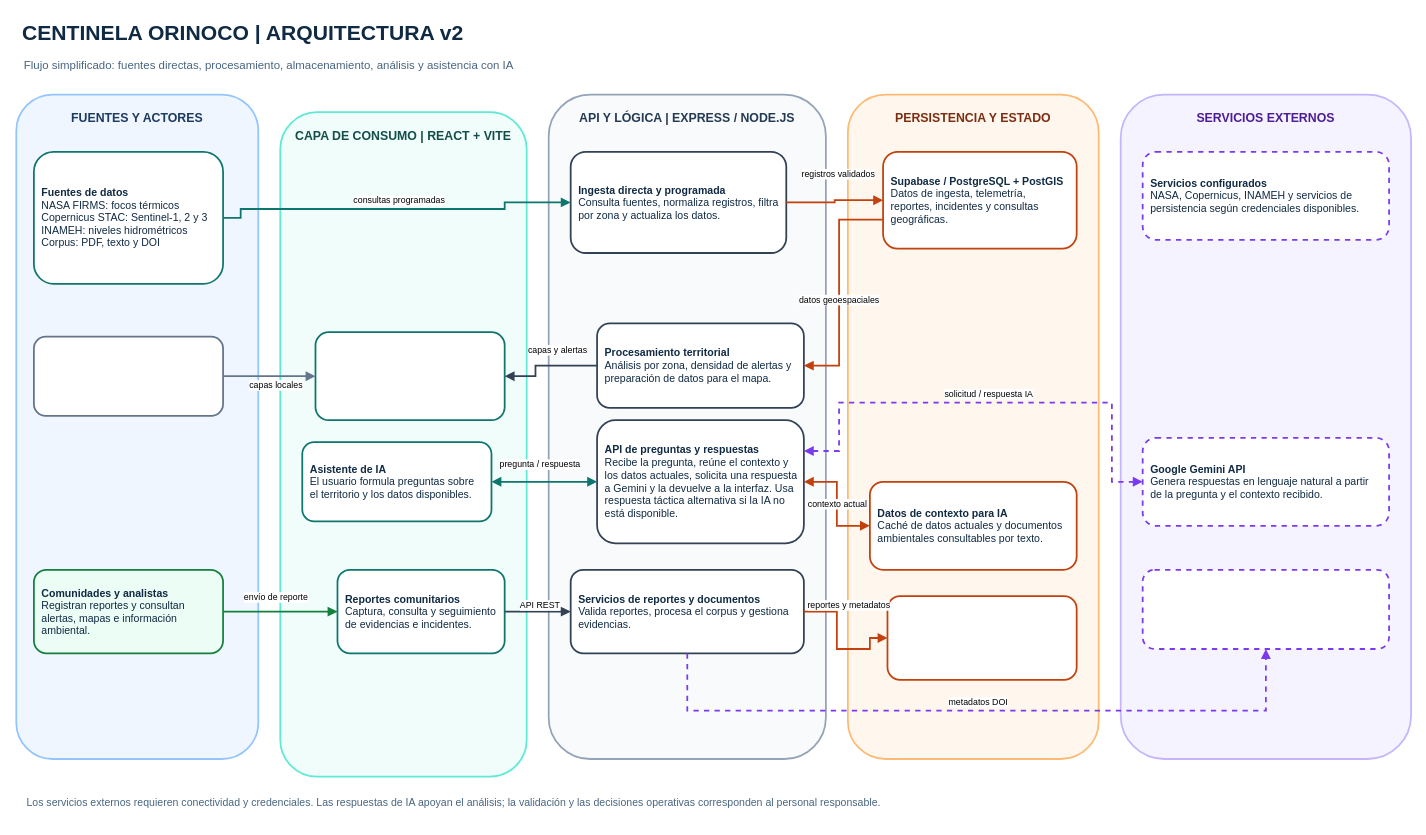
This 1426x835 diagram has some shape labels left out. Here are the shapes that lost their labels. From the top down, the centre of each, then its label:
At point (128, 375): "Referencia geográfica Límites, estados, municipios, ríos y sectores en GeoJSON.".
At point (409, 376): "Panel territorial Mapa, capas geoespaciales, alertas, telemetría e incidentes.".
At point (1265, 608): "Crossref / DOI Consulta de metadatos bibliográficos para documentos del corpus.".
At point (981, 637): "Evidencias Supabase Storage y MongoDB para archivos y metadatos asociados.".
